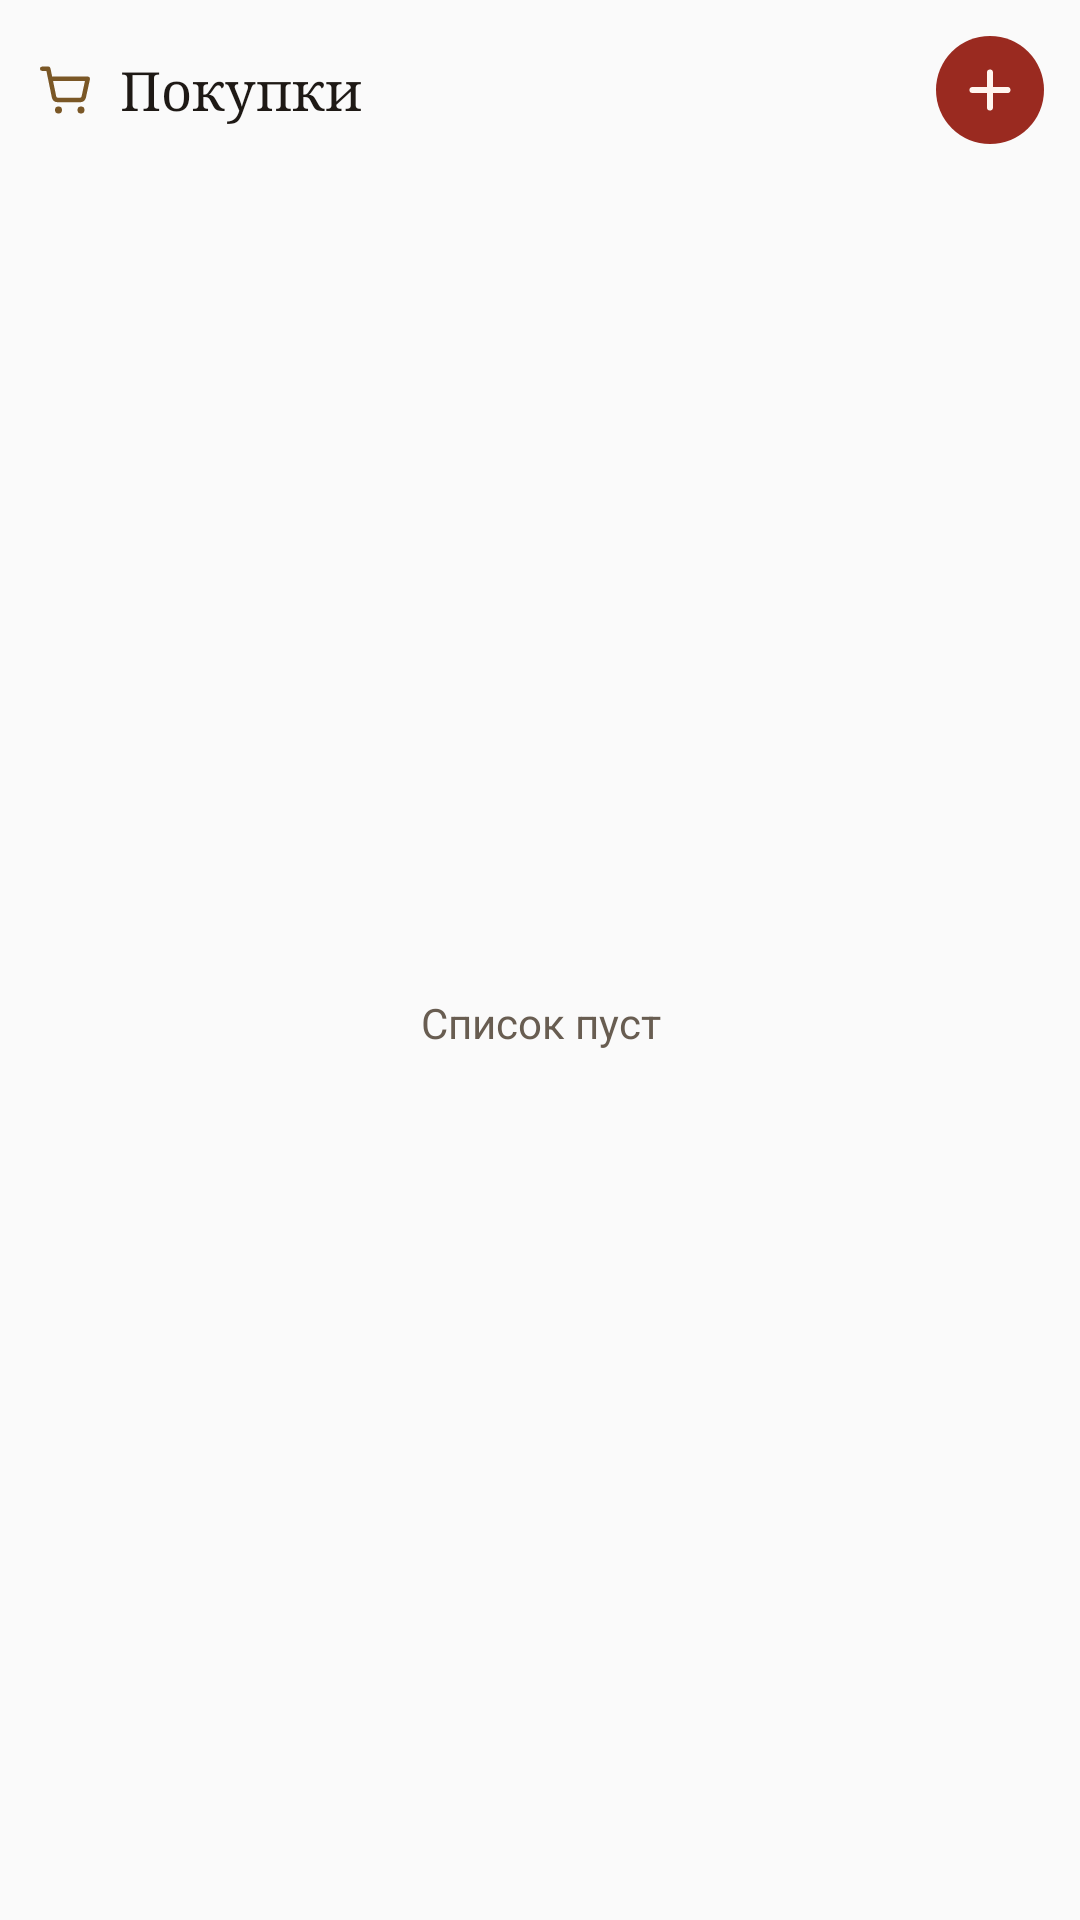

Screen size 1080w x 1920h. Icon name, then its center in pixels as (x,y):
widget cart: (65,90)
Добавить покупку: (990,90)
